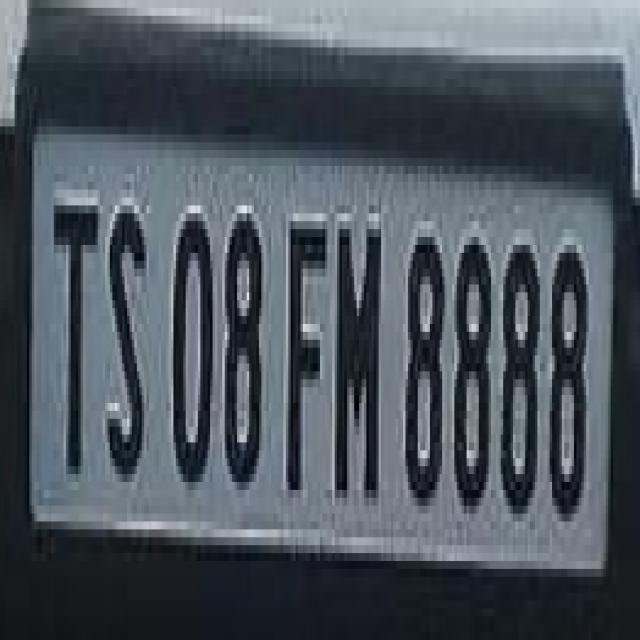0: (170, 185, 215, 492)
8: (545, 218, 595, 520), (220, 194, 268, 497), (402, 227, 448, 507), (452, 216, 494, 516), (501, 221, 542, 515)
F: (283, 190, 330, 496)
M: (334, 202, 386, 514)
S: (105, 177, 154, 507)
T: (48, 168, 104, 488)
